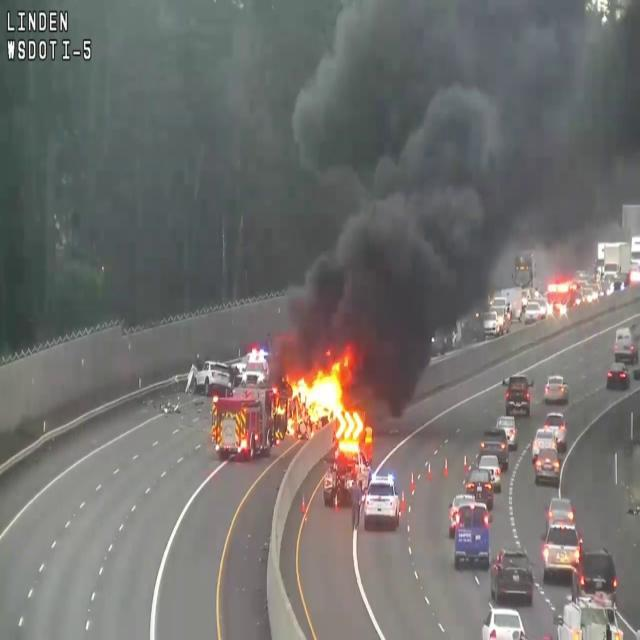Fire: (281, 354, 347, 422)
Smoke: (279, 1, 639, 346)
